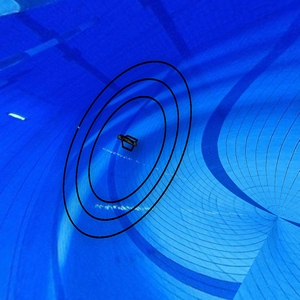circle: (60, 58, 197, 241)
submarine: (112, 130, 140, 157)
